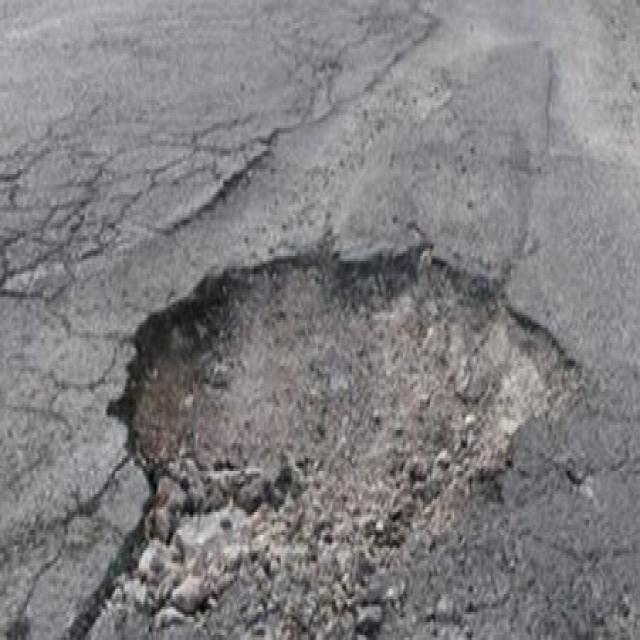Pothole: (64, 202, 604, 640)
